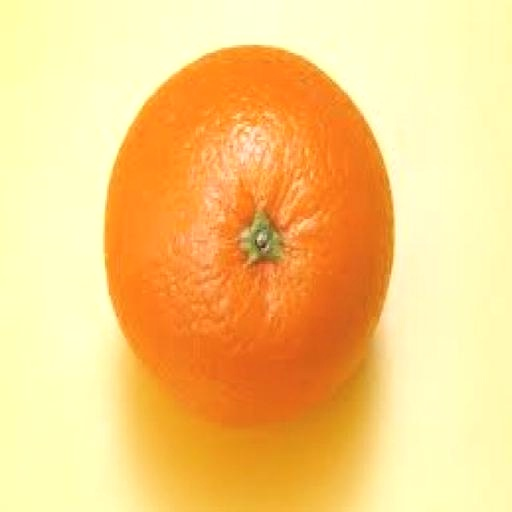fruit: (105, 47, 393, 423)
